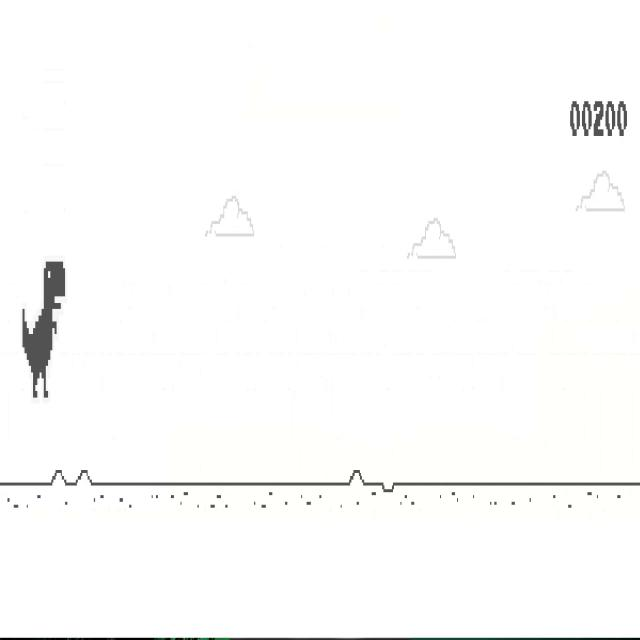dino: (21, 261, 66, 399)
